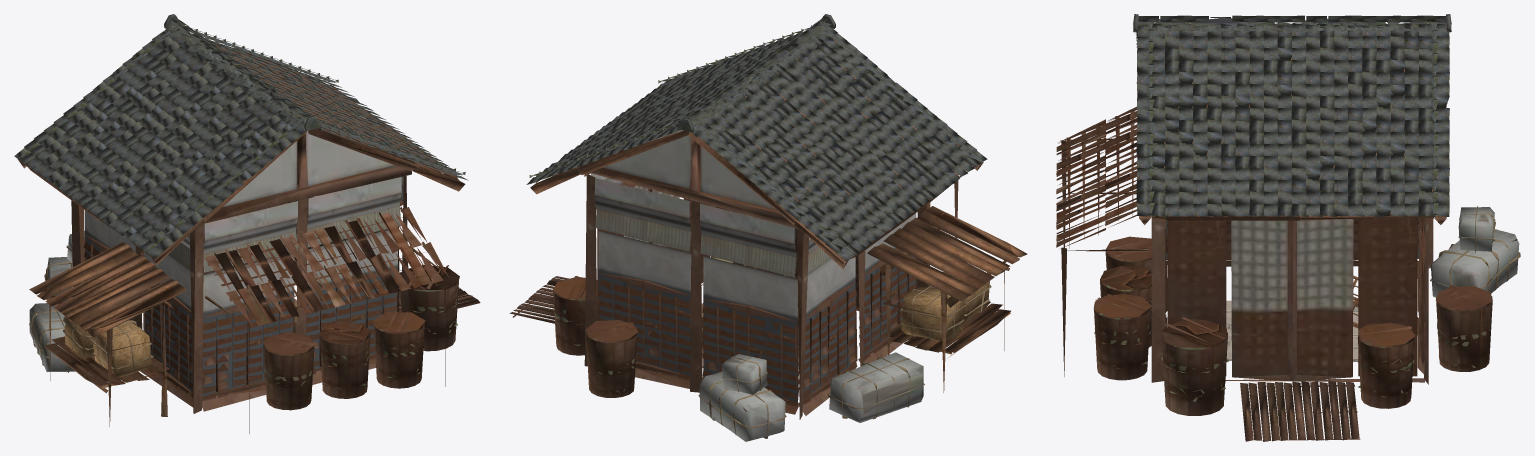
The model's file is kit.glb.
3 renders of one model, left to right at view 1: azimuth 30°, elevation 25°; view 2: azimuth 150°, elevation 25°; view 3: azimuth 270°, elevation 25°, orthographic. The views are drawn at different scales.
Parts seen in each view (by area): view 1: House4; view 2: House4; view 3: House4, Well.
Boxes of the visible parts, x1,y1,x2,y2 form: House4: (14, 14, 480, 433); House4: (509, 14, 1027, 441); House4: (1056, 14, 1520, 441); Well: (1226, 300, 1358, 361).
Size of the model in its own units: 8.24 by 5.88 by 6.94.
Materials: 7 (7 with a texture image).
